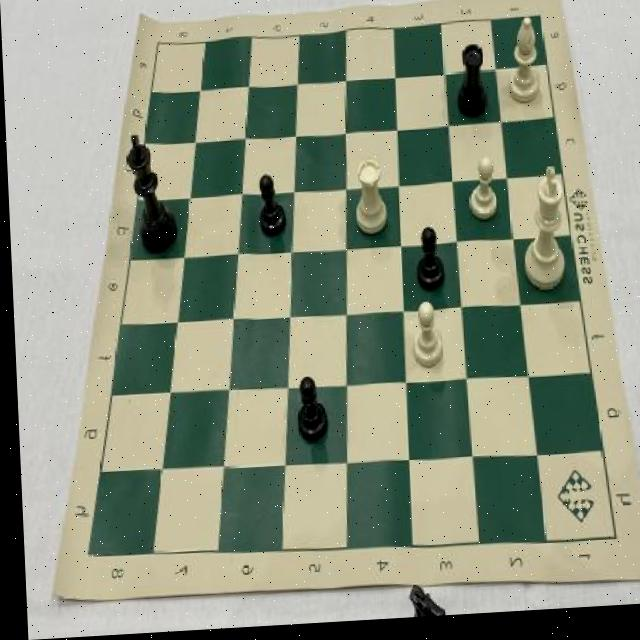black-bishop: (120, 128, 180, 261)
black-knight: (287, 369, 328, 452), (408, 227, 446, 300), (251, 172, 286, 249)
black-queen: (451, 45, 491, 128)
black-rook: (504, 18, 543, 116)
white-bishop: (513, 169, 570, 304)
white-knight: (402, 303, 443, 377), (462, 155, 501, 229)
white-queen: (348, 159, 389, 245)
